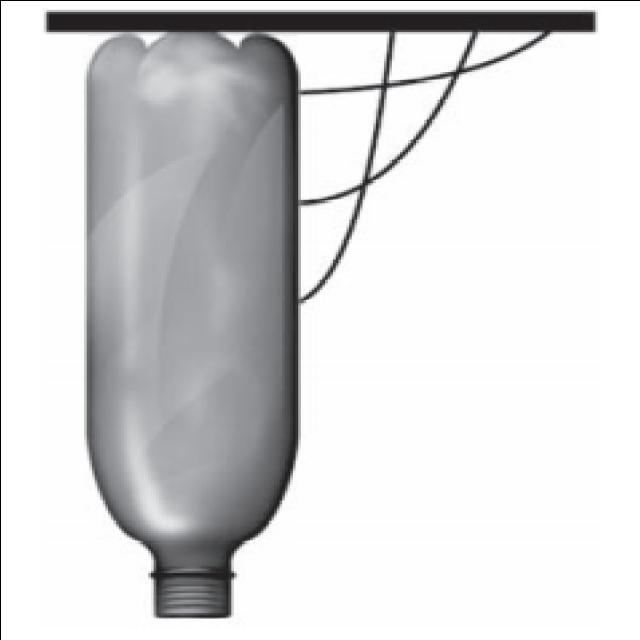bottle: (87, 34, 296, 616)
